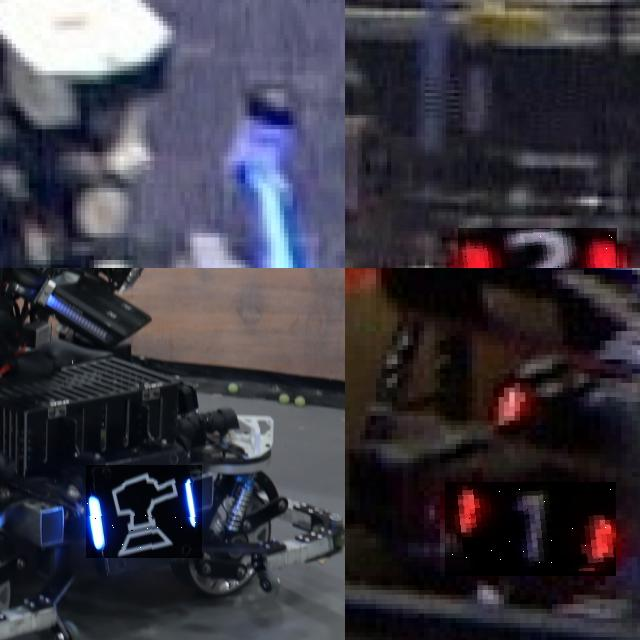Bs: (86, 465, 202, 558)
R1: (445, 482, 616, 576)
R2: (458, 227, 618, 268)
